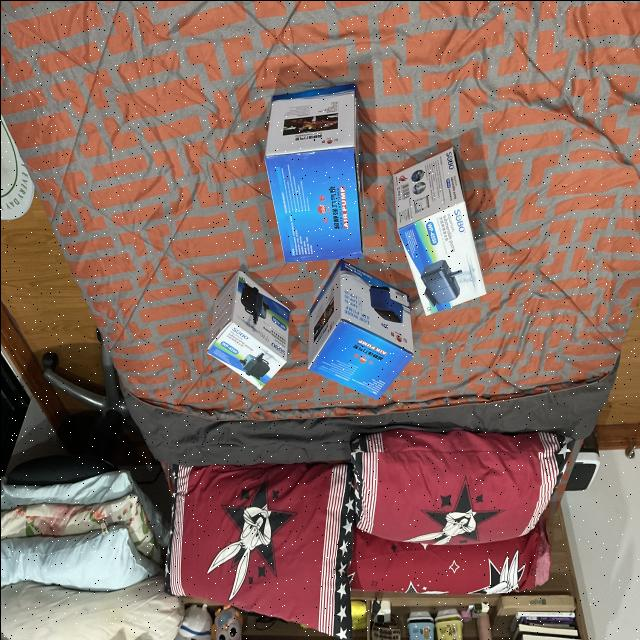SOBO_WP_4200: (392, 156, 494, 322), (197, 258, 289, 389)
YAMANO_LPP_20: (248, 65, 374, 268), (296, 257, 419, 405)
